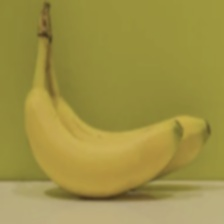banana: (21, 42, 203, 201)
